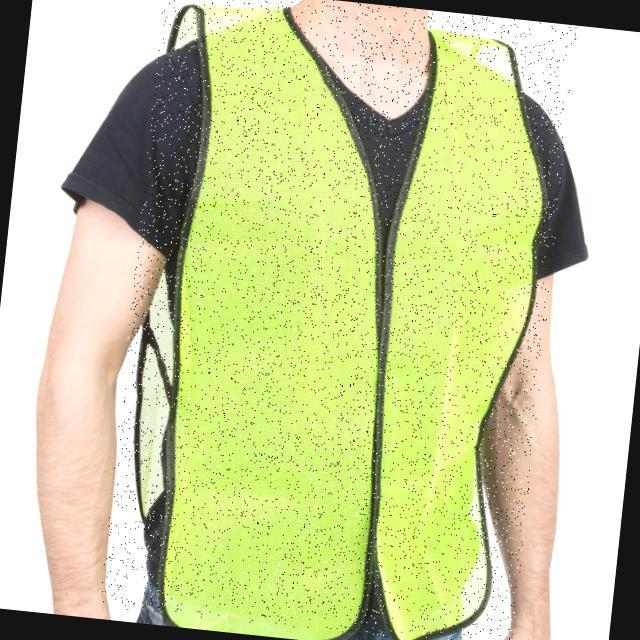vest: (99, 0, 577, 640)
